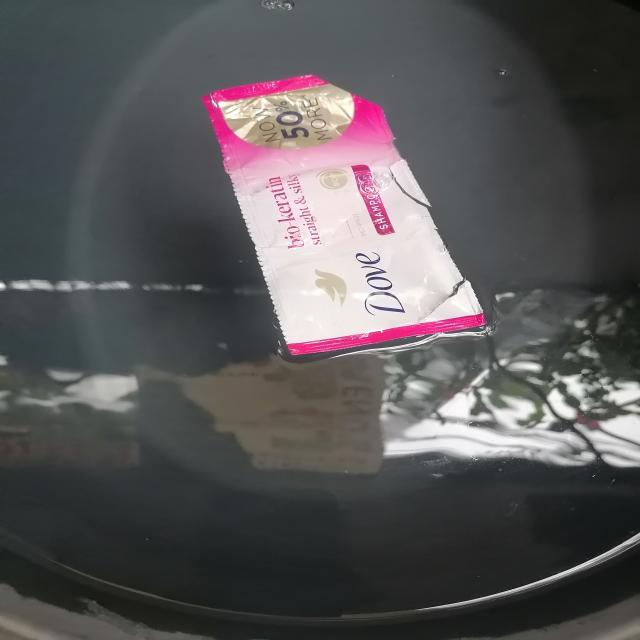Plastic Wrapper: (203, 75, 486, 359)
